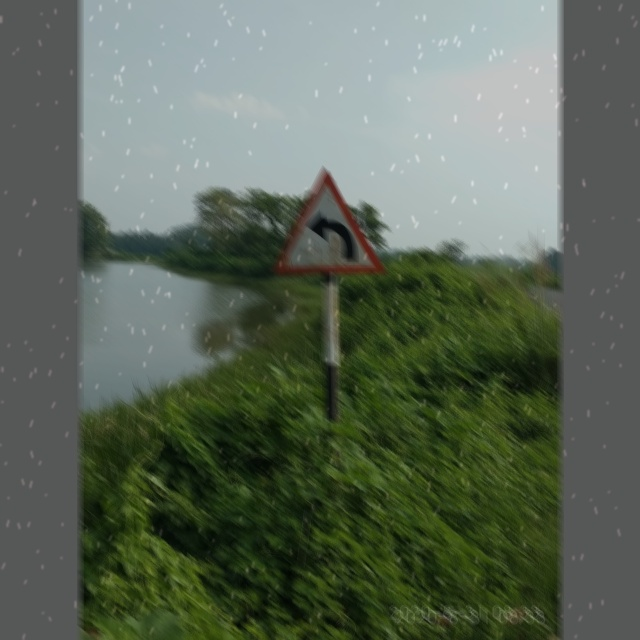Left_Hand_Curve: (267, 166, 386, 279)
